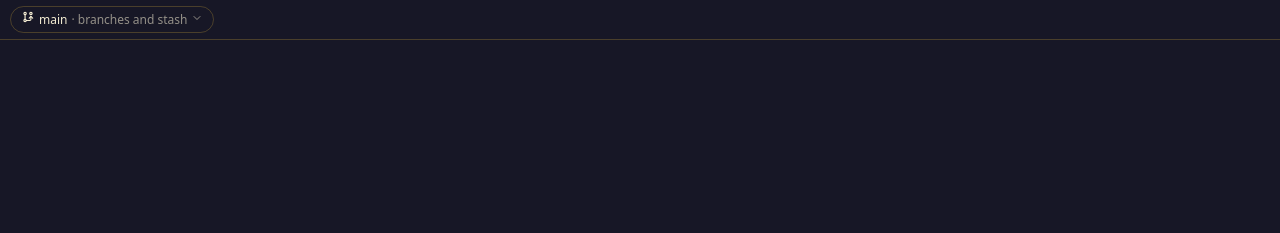
it: BranchBar › switches on click and tells the page to refresh
Later steps or results of the test are not shown.
Click the button "main · branches and stash": (112, 20) [10,6,214,33]
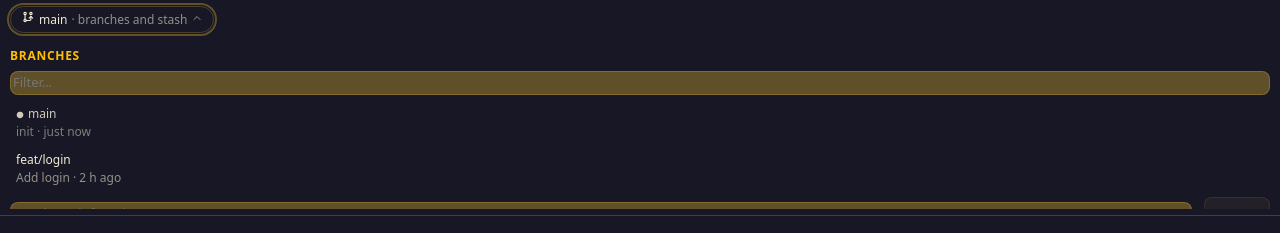
Result: the text "Add login · 2 h ago" is shown at [16,168,121,186]
